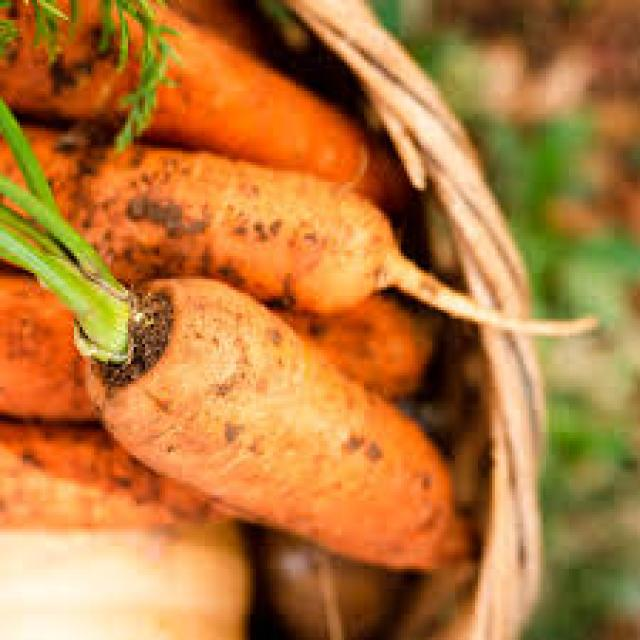Stale_Carrot: (75, 148, 395, 312)
